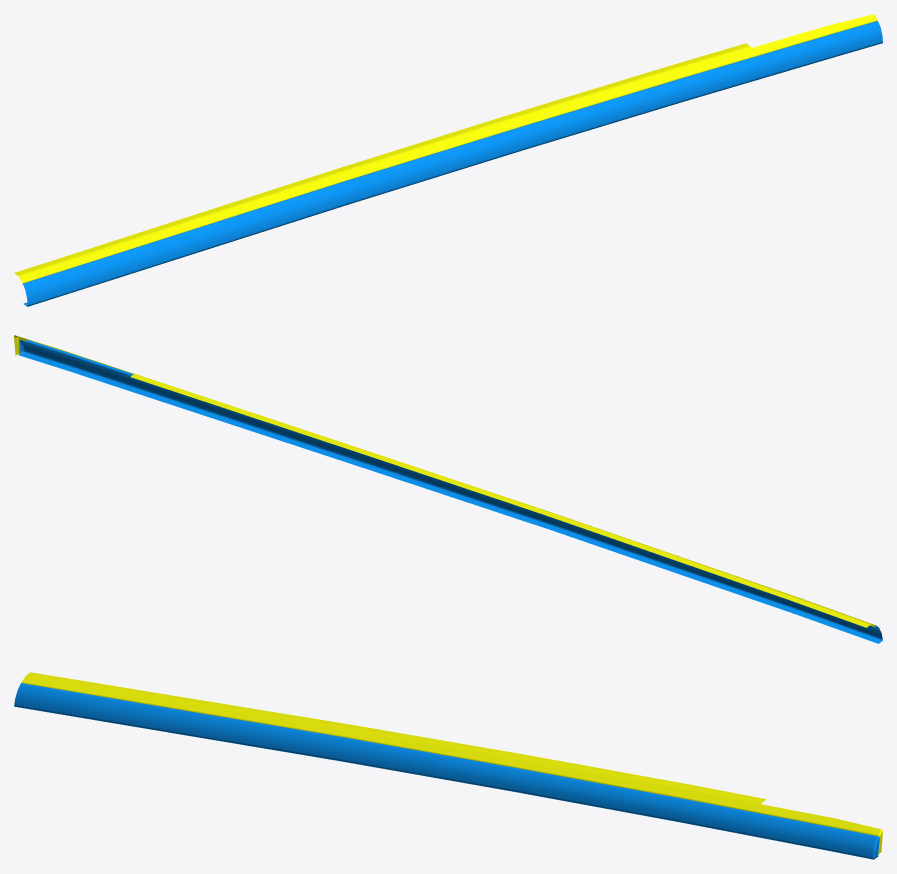
File: Door_f_L_BODY_tiao02_socket_door_fl.glb
3 renders of one model, top to bottom at view 1: azimuth 30°, elevation 25°; view 2: azimuth 150°, elevation 25°; view 3: azimuth 330°, elevation 25°, orthographic. The views are drawn at different scales.
Visible parts, largest first — view 1: door008; view 2: door008; view 3: door008.
Boxes of the visible parts, box(x1,y1,x2,y2) form: door008: box(14, 14, 882, 306); door008: box(14, 335, 882, 643); door008: box(14, 672, 882, 859).
Size of the model in its own units: 0.9389 by 0.0941 by 0.0496.
